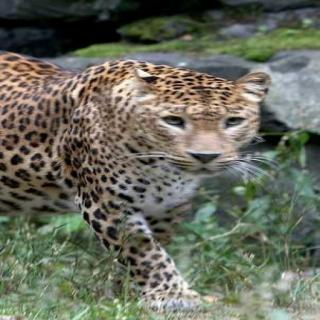Leopard: (20, 13, 232, 320)
